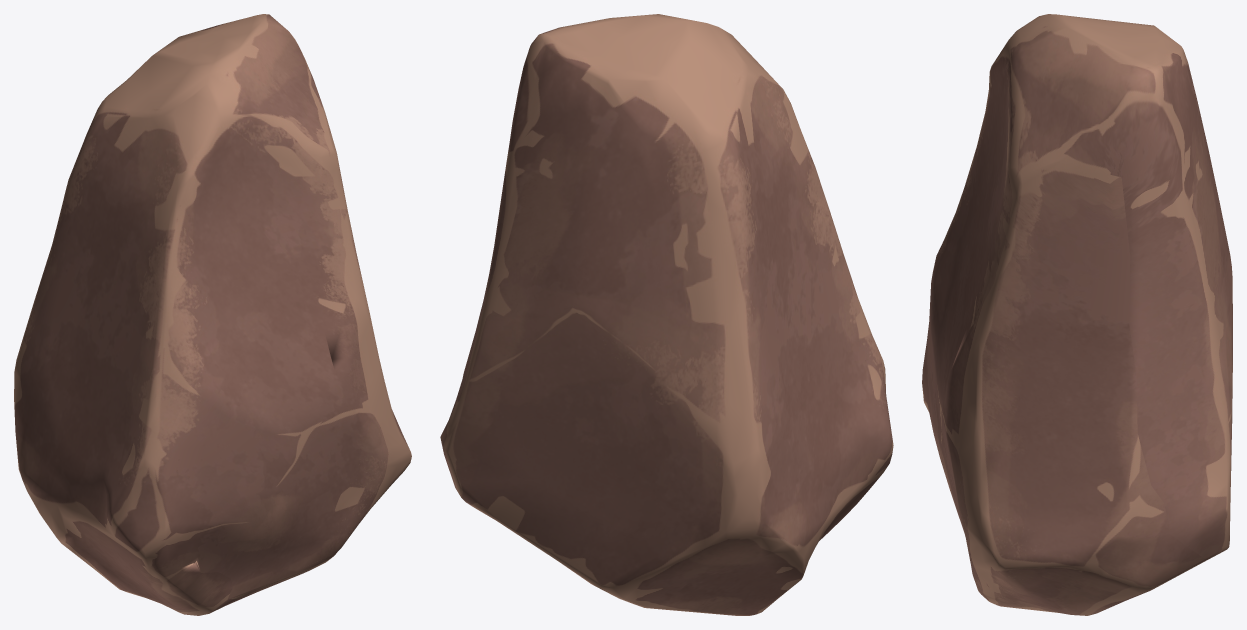
Rendered from roche2 texturée.FBX.
3 renders of one model, left to right at view 1: azimuth 30°, elevation 25°; view 2: azimuth 150°, elevation 25°; view 3: azimuth 270°, elevation 25°, orthographic. The views are drawn at different scales.
Parts seen in each view (by area): view 1: Group49195; view 2: Group49195; view 3: Group49195.
Part boxes in pixels (x1,y1,x2,y2): Group49195: (14, 14, 411, 615); Group49195: (440, 14, 893, 615); Group49195: (922, 14, 1232, 615).
Size of the model in its own units: 56.86 by 86.65 by 41.82.
Materials: 1 (1 with a texture image).
